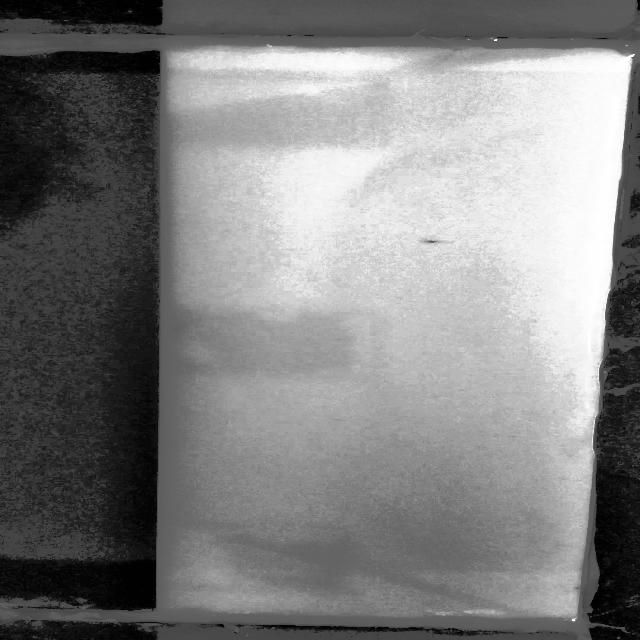shrimp: (416, 236, 451, 248)
